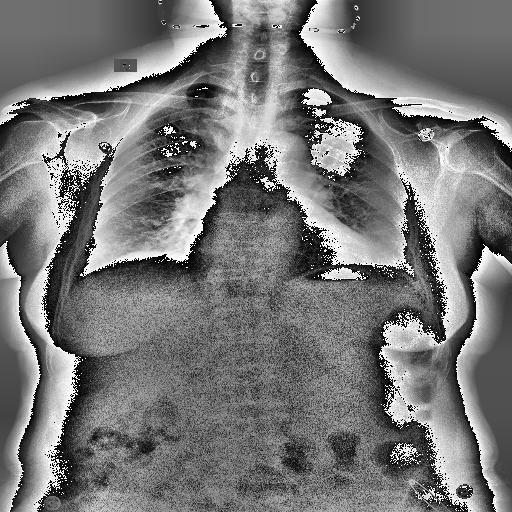0- Aortic enlargement: (257, 130, 313, 188), (266, 131, 315, 195), (268, 128, 315, 182)
3- Cardiomegaly: (188, 214, 374, 270), (184, 226, 382, 274), (184, 216, 378, 262)
8- Nodule-Mass: (196, 92, 206, 98)
9- Other lesion: (198, 92, 206, 98)
